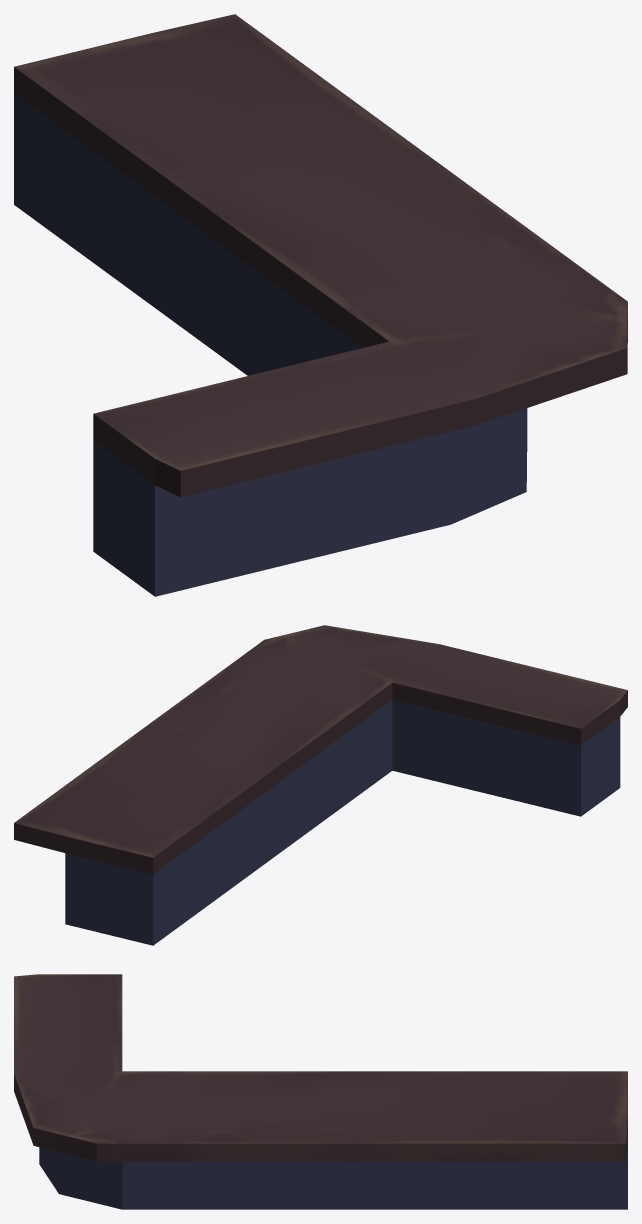
The model's file is Barra tipo bar.fbx.
The picture shows the model from 3 angles, top to bottom: view 1: azimuth 30°, elevation 25°; view 2: azimuth 150°, elevation 25°; view 3: azimuth 270°, elevation 25°; orthographic projection. The views are drawn at different scales.
Parts seen in each view (by area): view 1: Cube; view 2: Cube; view 3: Cube.
Boxes of the visible parts, x1,y1,x2,y2 form: Cube: (14,14,627,596); Cube: (14,625,627,945); Cube: (14,974,627,1209).
Size of the model in its own units: 1322 by 338 by 2025.
1 material, 1 textured.
